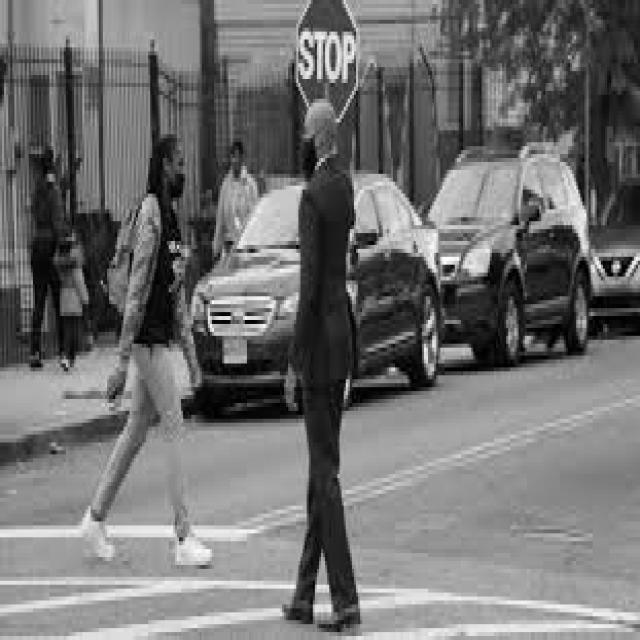stop sign: (294, 0, 359, 123)
